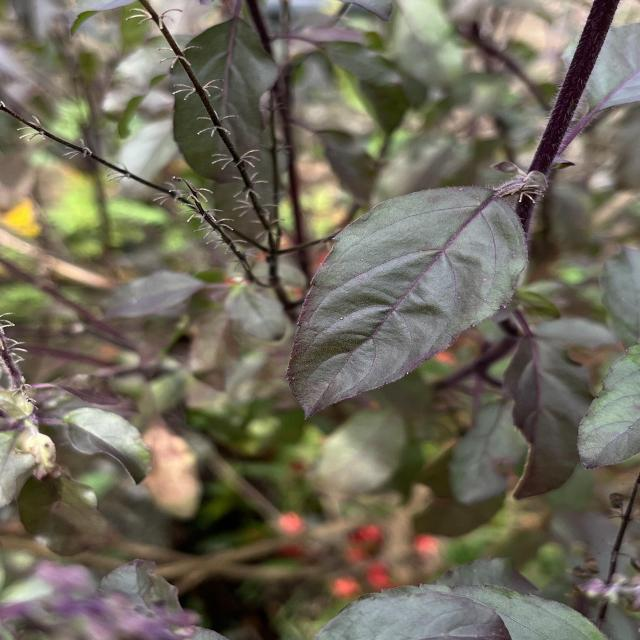Ocimum tenuiflorum: (284, 184, 532, 420)
